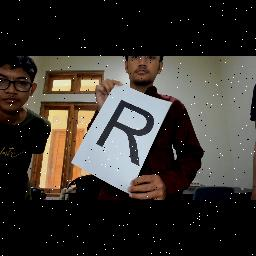r: (88, 94, 158, 170)
